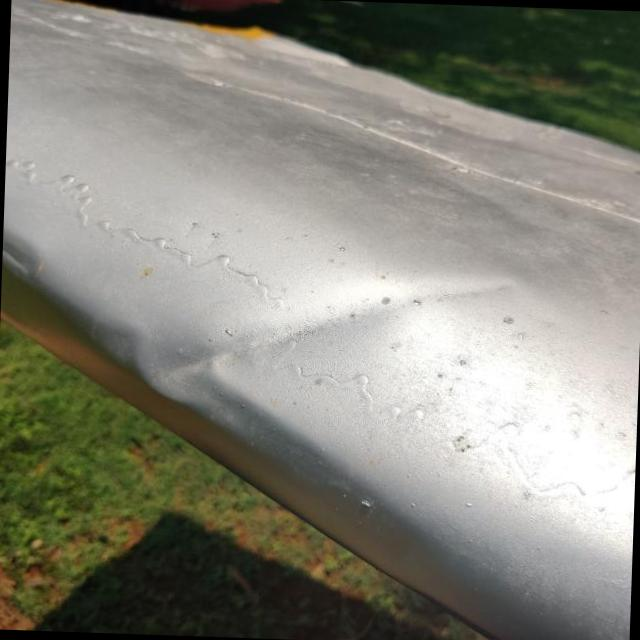Dent: (100, 264, 473, 456), (2, 229, 45, 284)
